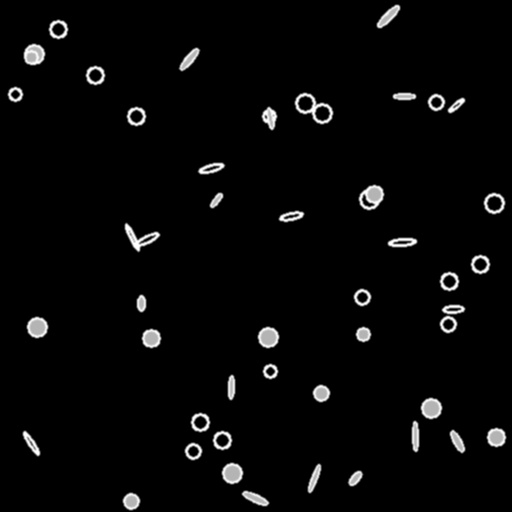pseudomonas: (376, 4, 400, 28), (178, 47, 200, 71), (21, 430, 41, 456), (241, 489, 269, 507), (124, 223, 140, 251), (307, 464, 321, 492), (135, 231, 159, 247), (198, 161, 224, 175), (449, 430, 465, 452), (279, 210, 303, 222), (447, 97, 465, 113), (347, 470, 363, 486), (209, 192, 223, 208), (389, 238, 415, 246), (412, 421, 418, 451), (266, 108, 274, 128), (443, 305, 463, 313), (228, 376, 234, 398), (393, 93, 414, 99), (138, 296, 145, 311)
synechocystis: (28, 318, 46, 336), (25, 45, 43, 63), (313, 104, 331, 122), (296, 94, 314, 112), (360, 190, 378, 208), (259, 328, 277, 346), (485, 194, 503, 212), (223, 464, 241, 482), (422, 399, 440, 417), (472, 256, 488, 272), (87, 67, 103, 83), (488, 429, 504, 445), (366, 186, 382, 202), (192, 414, 208, 430), (214, 432, 230, 448), (50, 21, 66, 37), (128, 108, 144, 124), (441, 273, 457, 289), (143, 330, 159, 346), (441, 317, 455, 331), (429, 95, 443, 109), (314, 386, 328, 400), (355, 290, 369, 304), (186, 444, 200, 458), (124, 494, 138, 508), (357, 328, 369, 340), (9, 88, 21, 100), (263, 110, 275, 122), (25, 51, 37, 63), (264, 365, 276, 377)
